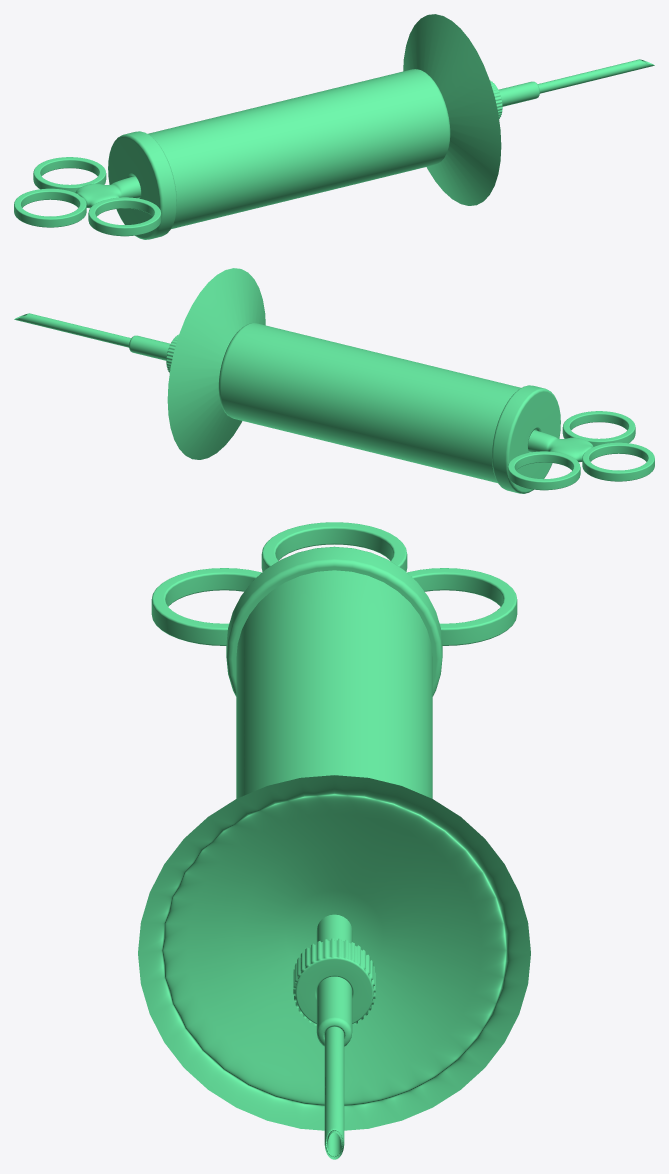
Rendered from syringe.fbx.
The picture shows the model from 3 angles, top to bottom: view 1: azimuth 30°, elevation 25°; view 2: azimuth 150°, elevation 25°; view 3: azimuth 270°, elevation 25°; orthographic projection. The views are drawn at different scales.
Parts seen in each view (by area): view 1: Syringe_6950.Shape; view 2: Syringe_6950.Shape; view 3: Syringe_6950.Shape.
Part boxes in pixels (bbox=[...]): Syringe_6950.Shape: bbox=[14, 14, 654, 239]; Syringe_6950.Shape: bbox=[14, 268, 654, 493]; Syringe_6950.Shape: bbox=[138, 522, 530, 1159].
Size of the model in its own units: 27.31 by 7.32 by 7.32.
